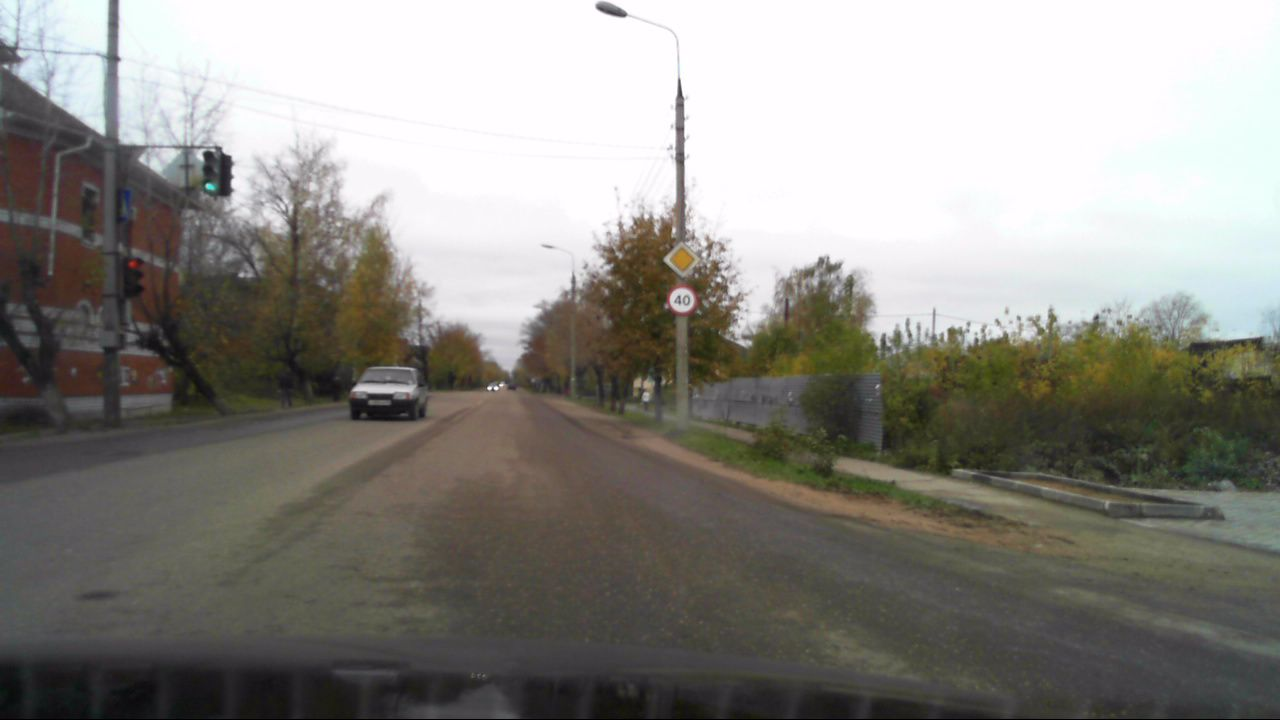speed_warning_40: (668, 285, 697, 314)
